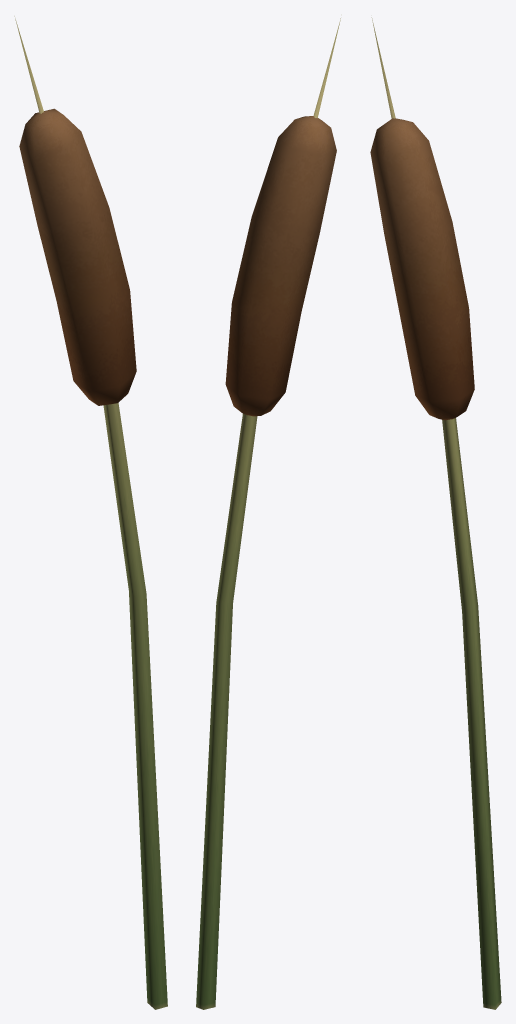
Rendered from Cattail_4.fbx.
3 views of the same model, side by side, from view 1: azimuth 30°, elevation 25°; view 2: azimuth 210°, elevation 25°; view 3: azimuth 330°, elevation 25° (orthographic). The views are drawn at different scales.
Visible parts, largest first — view 1: Sphere.023, Cube.079; view 2: Sphere.023, Cube.079; view 3: Sphere.023, Cube.079.
Part boxes in pixels (x1=…): Sphere.023: x1=19, y1=108, x2=136, y2=405; Cube.079: x1=14, y1=16, x2=167, y2=1009; Sphere.023: x1=225, y1=116, x2=336, y2=416; Cube.079: x1=196, y1=18, x2=340, y2=1009; Sphere.023: x1=370, y1=118, x2=474, y2=420; Cube.079: x1=371, y1=17, x2=501, y2=1009.
Size of the model in its own units: 11.56 by 78.6 by 5.15.
